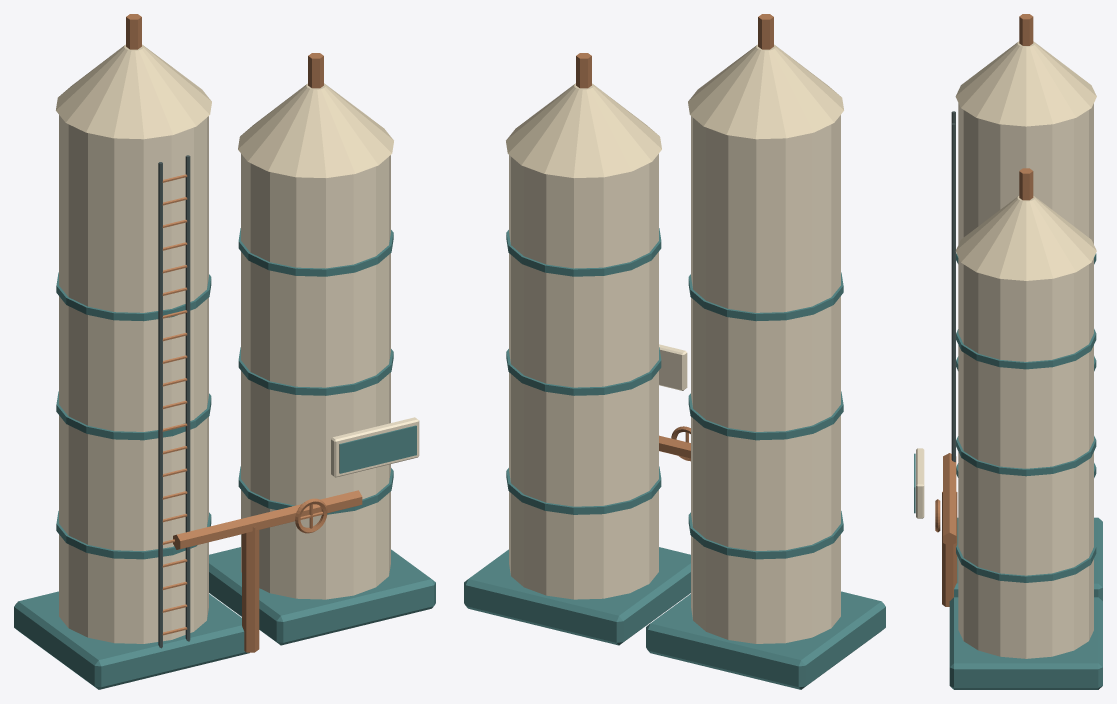
File: hsc3_silo_pair_7m.glb
3 renders of one model, left to right at view 1: azimuth 30°, elevation 25°; view 2: azimuth 150°, elevation 25°; view 3: azimuth 270°, elevation 25°, orthographic. The views are drawn at different scales.
Visible parts, largest first — view 1: hsc3_silo_pair_7m__hsc3-pale-trim, hsc3_silo_pair_7m__hsc3-deep-teal, hsc3_silo_pair_7m__hsc3-cream-enamel, hsc3_silo_pair_7m__hsc3-roasted-copper, hsc3_silo_pair_7m__hsc3-charcoal-metal; view 2: hsc3_silo_pair_7m__hsc3-pale-trim, hsc3_silo_pair_7m__hsc3-deep-teal, hsc3_silo_pair_7m__hsc3-cream-enamel, hsc3_silo_pair_7m__hsc3-roasted-copper; view 3: hsc3_silo_pair_7m__hsc3-pale-trim, hsc3_silo_pair_7m__hsc3-cream-enamel, hsc3_silo_pair_7m__hsc3-deep-teal, hsc3_silo_pair_7m__hsc3-roasted-copper, hsc3_silo_pair_7m__hsc3-charcoal-metal.
Part boxes in pixels (x1=…): hsc3_silo_pair_7m__hsc3-pale-trim: x1=59, y1=115, x2=419, y2=643; hsc3_silo_pair_7m__hsc3-deep-teal: x1=14, y1=228, x2=435, y2=689; hsc3_silo_pair_7m__hsc3-cream-enamel: x1=56, y1=44, x2=393, y2=177; hsc3_silo_pair_7m__hsc3-roasted-copper: x1=126, y1=14, x2=362, y2=652; hsc3_silo_pair_7m__hsc3-charcoal-metal: x1=158, y1=155, x2=190, y2=648; hsc3_silo_pair_7m__hsc3-pale-trim: x1=509, y1=115, x2=840, y2=643; hsc3_silo_pair_7m__hsc3-deep-teal: x1=464, y1=228, x2=885, y2=689; hsc3_silo_pair_7m__hsc3-cream-enamel: x1=506, y1=44, x2=843, y2=177; hsc3_silo_pair_7m__hsc3-roasted-copper: x1=576, y1=14, x2=773, y2=461; hsc3_silo_pair_7m__hsc3-pale-trim: x1=916, y1=103, x2=1093, y2=658; hsc3_silo_pair_7m__hsc3-cream-enamel: x1=955, y1=41, x2=1096, y2=280; hsc3_silo_pair_7m__hsc3-deep-teal: x1=914, y1=253, x2=1102, y2=689; hsc3_silo_pair_7m__hsc3-roasted-copper: x1=935, y1=14, x2=1033, y2=606; hsc3_silo_pair_7m__hsc3-charcoal-metal: x1=951, y1=111, x2=955, y2=462.
Bounding box in the file's own units: 6 × 10.5 × 3.2.
